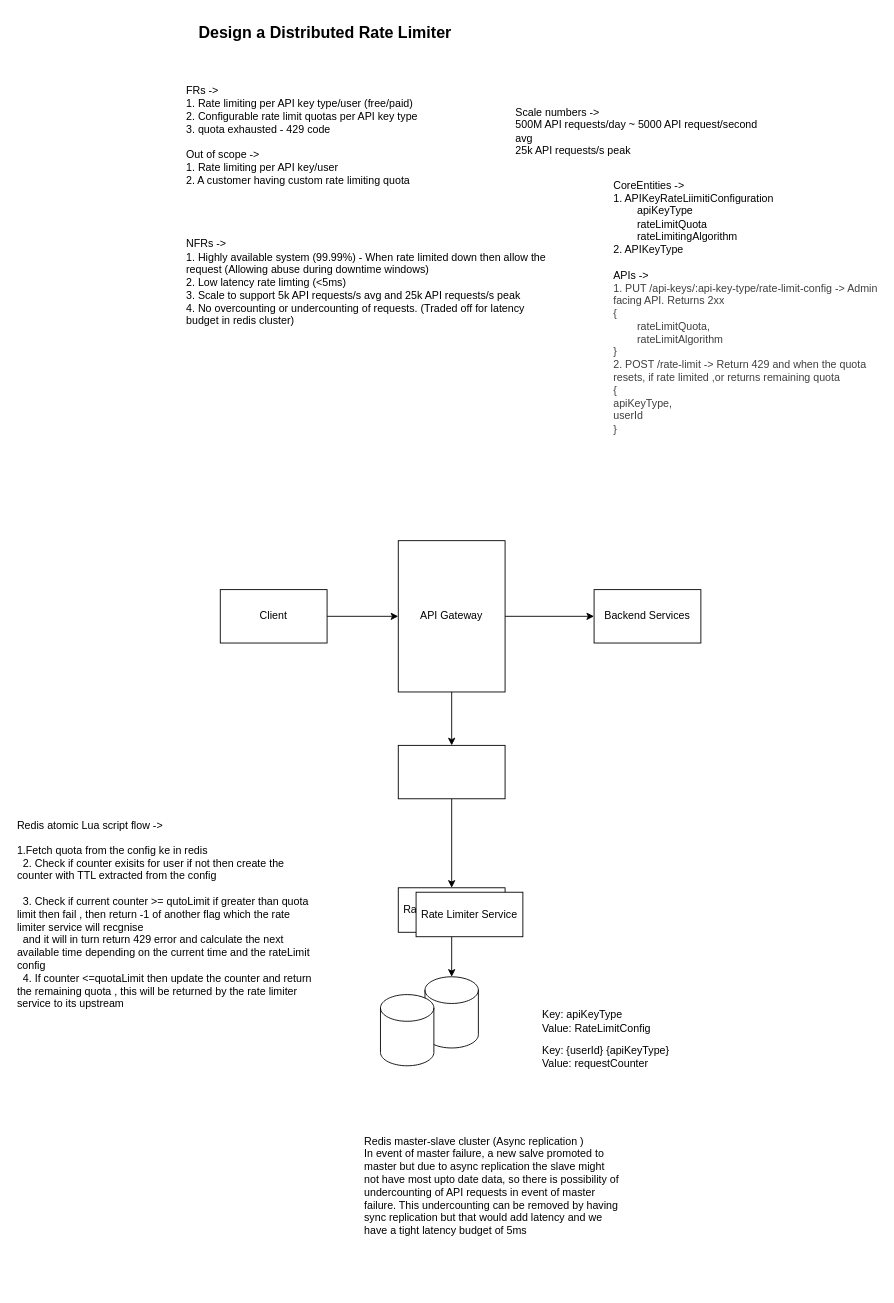
This 894x1303 diagram has some shape labels left out. The centre of each missing label's shape, as x and y in pixels:
Load Balancer: the point at 451,771
Redis: the point at 451,1012
